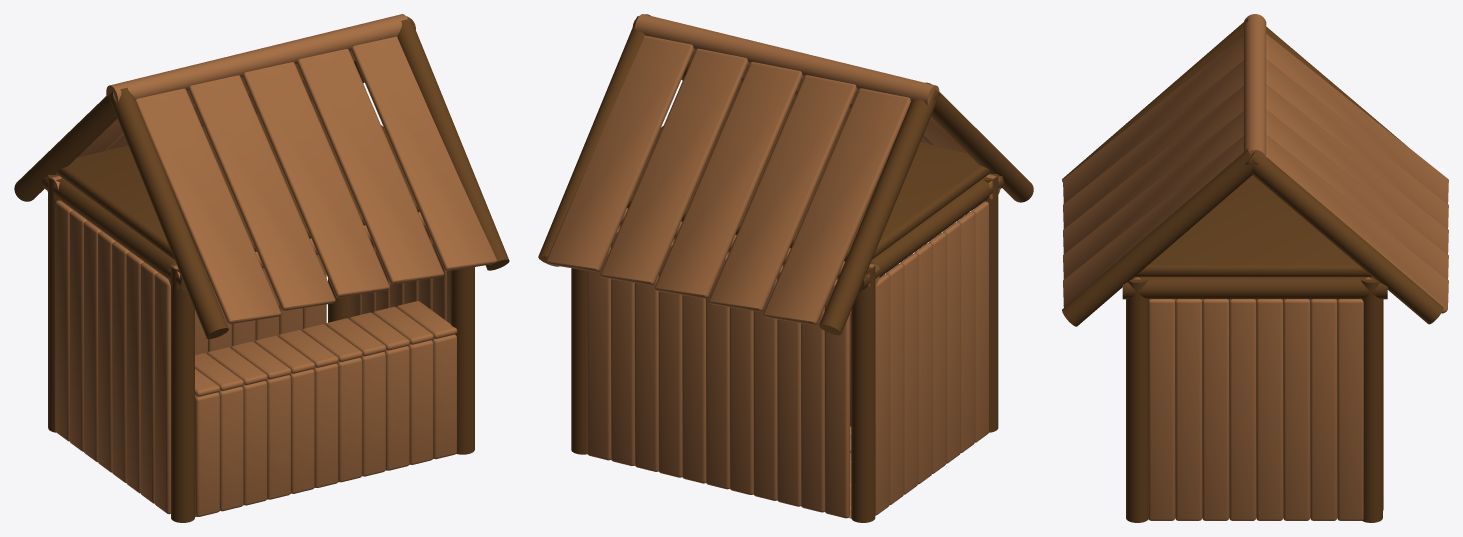
The model's file is exchange shop 1.fbx.
3 views of the same model, side by side, from view 1: azimuth 30°, elevation 25°; view 2: azimuth 150°, elevation 25°; view 3: azimuth 270°, elevation 25° (orthographic). The views are drawn at different scales.
Parts seen in each view (by area): view 1: Cylinder.051; view 2: Cylinder.051; view 3: Cylinder.051.
Boxes of the visible parts, box(x1,y1,x2,y2) form: Cylinder.051: box(14, 14, 509, 522); Cylinder.051: box(538, 14, 1033, 522); Cylinder.051: box(1062, 14, 1448, 522).
Bounding box in the file's own units: 12210 × 15090 × 14258.
